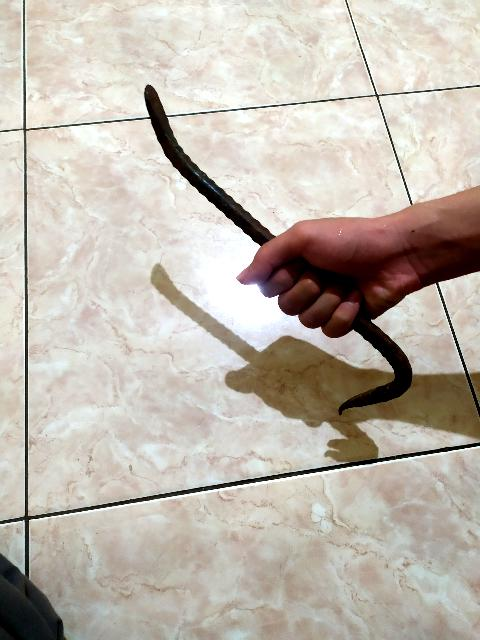crow bar: (141, 72, 419, 426)
